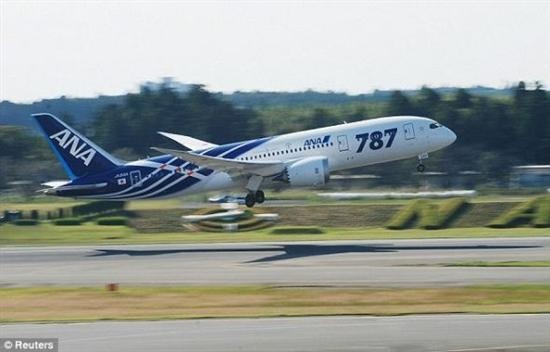airplane: (29, 87, 461, 209)
